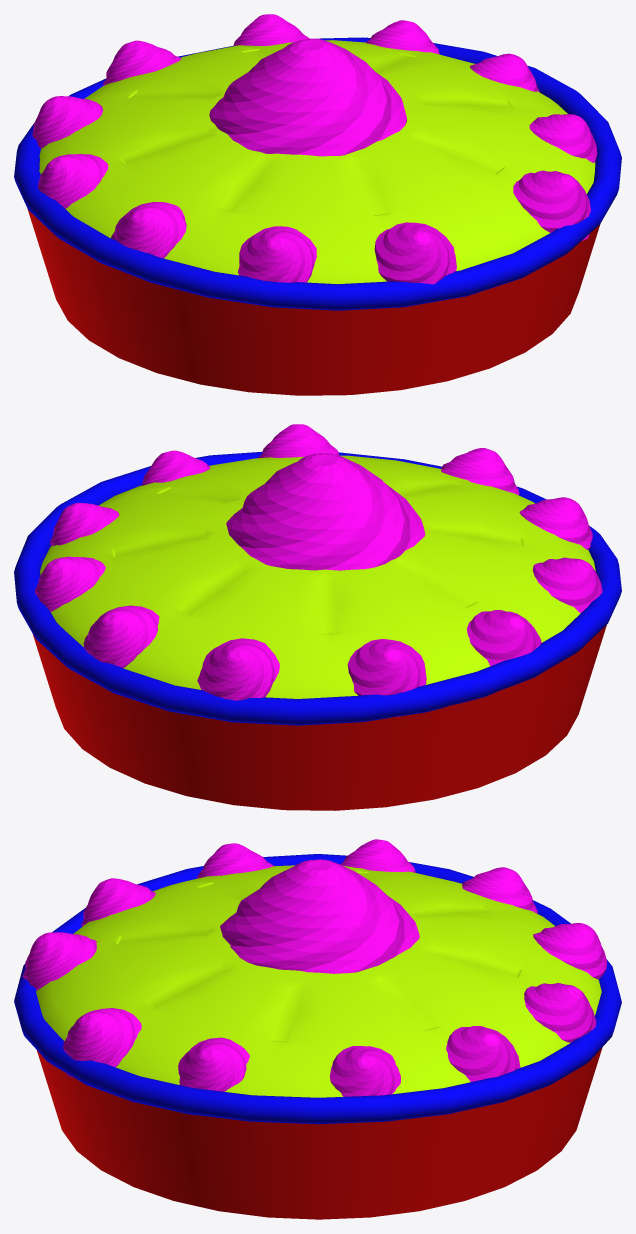
Rendered from TarteMesh.fbx.
3 views of the same model, one above another, from view 1: azimuth 30°, elevation 25°; view 2: azimuth 150°, elevation 25°; view 3: azimuth 270°, elevation 25° (orthographic).
Parts seen in each view (by area): view 1: Sphere001, Cylinder001, Circle001, Cylinder, Cylinder012, Cylinder011, Cylinder002, Cylinder010, Cylinder009, Cylinder008, Cylinder003, Cylinder007 (+3 smaller); view 2: Sphere001, Cylinder001, Circle001, Cylinder, Cylinder007, Cylinder008, Cylinder006, Cylinder009, Cylinder010, Cylinder005, Cylinder011, Cylinder012 (+3 smaller); view 3: Sphere001, Cylinder001, Circle001, Cylinder, Cylinder002, Cylinder005, Cylinder003, Cylinder006, Cylinder004, Cylinder012, Cylinder007, Cylinder011 (+3 smaller).
Boxes of the visible parts, box(x1,y1,x2,y2) form: Sphere001: box(39, 40, 595, 284); Cylinder001: box(27, 208, 600, 395); Circle001: box(14, 37, 621, 310); Cylinder: box(209, 38, 406, 156); Cylinder012: box(374, 222, 456, 284); Cylinder011: box(238, 226, 316, 282); Cylinder002: box(513, 170, 590, 240); Cylinder010: box(110, 202, 186, 258); Cylinder009: box(38, 154, 108, 208); Cylinder008: box(32, 96, 103, 148); Cylinder003: box(529, 114, 597, 162); Cylinder007: box(103, 40, 181, 85); Sphere001: box(40, 455, 595, 698); Cylinder001: box(32, 625, 606, 810); Circle001: box(14, 451, 621, 725); Cylinder: box(226, 453, 425, 570); Cylinder007: box(197, 638, 279, 700); Cylinder008: box(347, 639, 426, 716); Cylinder006: box(83, 605, 159, 668); Cylinder009: box(467, 610, 541, 666); Cylinder010: box(532, 557, 602, 613); Cylinder005: box(34, 556, 105, 611); Cylinder011: box(519, 497, 592, 549); Cylinder012: box(441, 448, 519, 495); Sphere001: box(36, 865, 601, 1097); Cylinder001: box(37, 1047, 602, 1219); Circle001: box(14, 854, 621, 1124); Cylinder: box(220, 859, 419, 973); Cylinder002: box(63, 1008, 141, 1077); Cylinder005: box(446, 1026, 520, 1081); Cylinder003: box(178, 1037, 249, 1091); Cylinder006: box(524, 983, 596, 1042); Cylinder004: box(329, 1046, 400, 1096); Cylinder012: box(22, 932, 96, 990); Cylinder007: box(533, 923, 606, 979); Cylinder011: box(81, 878, 155, 926).
Bounding box in the file's own units: 25.93 × 11.35 × 25.93.
